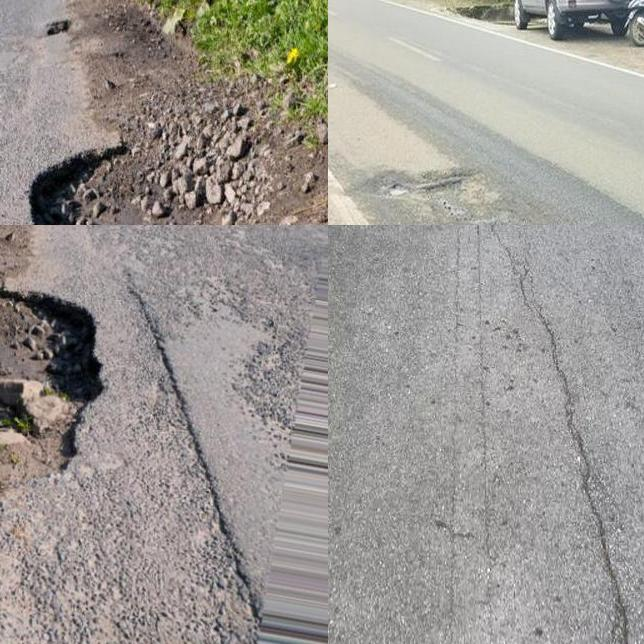Memanjang: (479, 225, 644, 644)
Pinggir: (0, 280, 111, 511), (1, 141, 204, 225)
